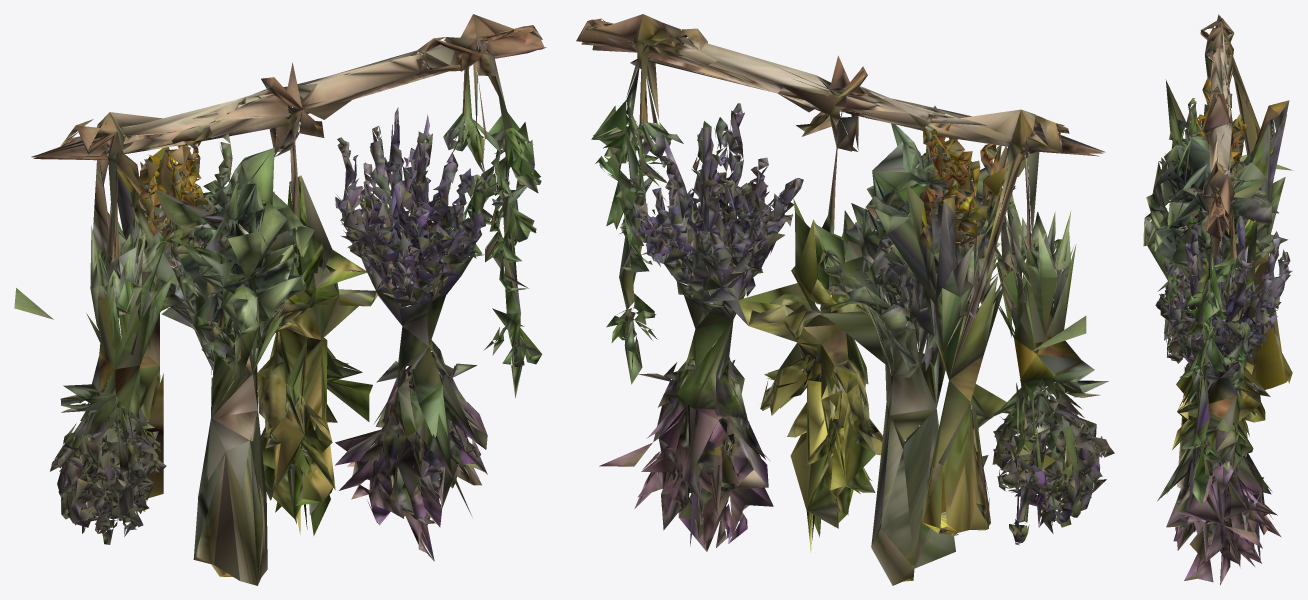
File: Herbal_Harvest_town.glb
3 views of the same model, side by side, from view 1: azimuth 30°, elevation 25°; view 2: azimuth 150°, elevation 25°; view 3: azimuth 270°, elevation 25° (orthographic). The views are drawn at different scales.
Visible parts, largest first — view 1: Herbal_Harvest; view 2: Herbal_Harvest; view 3: Herbal_Harvest.
Part boxes in pixels (x1,y1,x2,y2): Herbal_Harvest: (14,14,546,585); Herbal_Harvest: (576,14,1114,585); Herbal_Harvest: (1143,14,1293,585).
Bounding box in the file's own units: 1.87 × 1.81 × 0.5647.
Materials: 1 (1 with a texture image).
